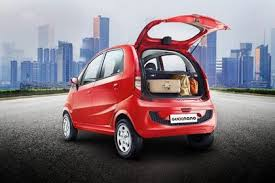Nano: (61, 13, 233, 162)
